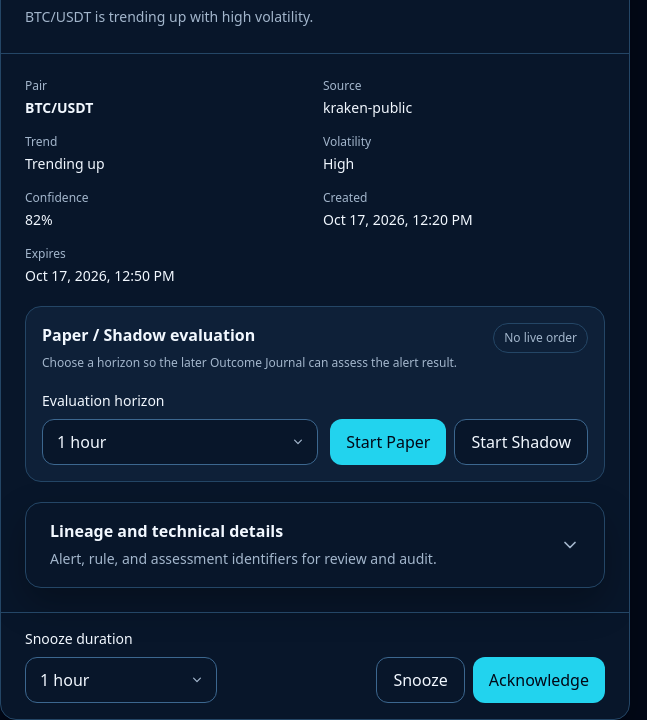
Test: AlertCenter › acknowledges an alert and refreshes page and summary state
(page scrolled)
Step 1. Click the button "Acknowledge" → (539, 680), box [473,657,605,703]
(page scrolled)
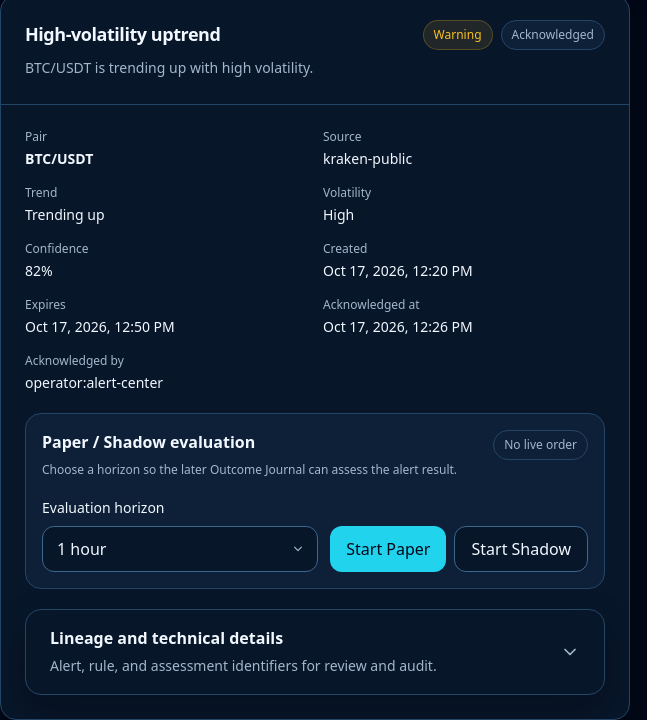
Expected: the text "operator:alert-center" is shown, [25,373,163,392]
